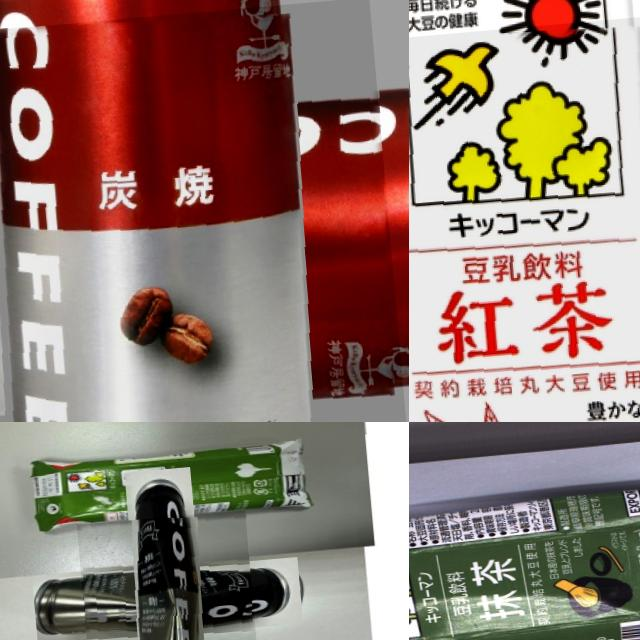Aluminium Foil: (409, 7, 640, 422), (409, 470, 640, 640), (23, 436, 314, 534)
Can: (0, 0, 409, 422), (76, 509, 259, 640)
